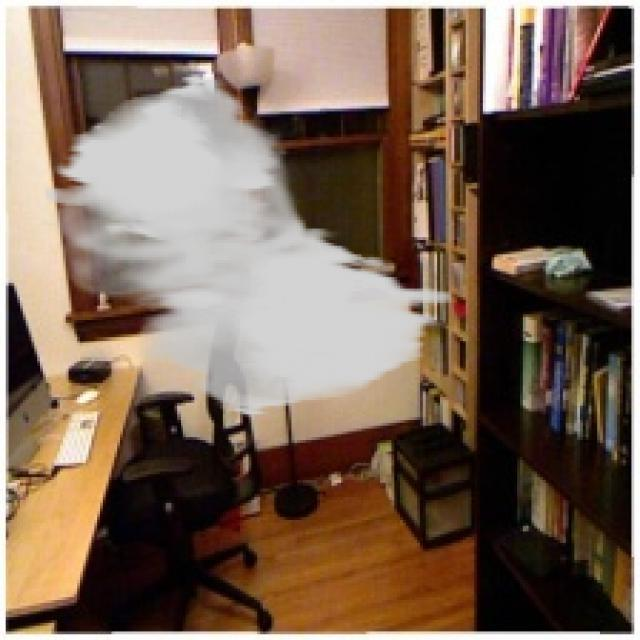Smoke: (42, 72, 452, 417)
